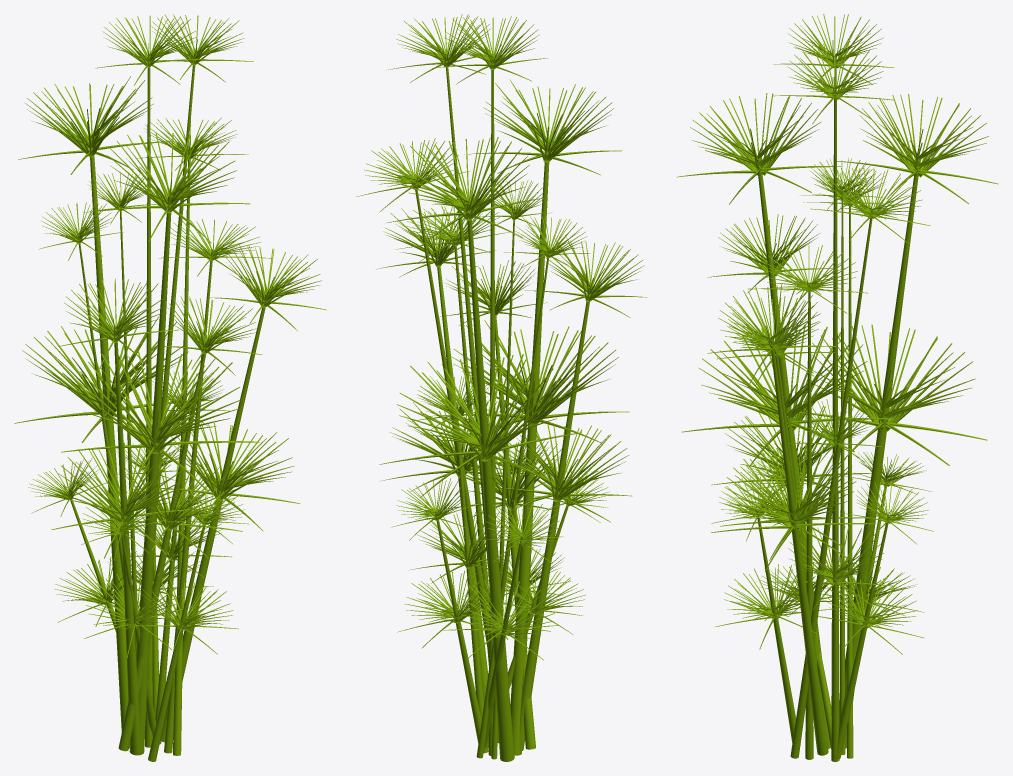
The model's file is papyrus_plant.glb.
The picture shows the model from 3 angles, left to right: view 1: azimuth 30°, elevation 25°; view 2: azimuth 150°, elevation 25°; view 3: azimuth 270°, elevation 25°; orthographic projection.
Visible parts, largest first — view 1: group_5.003, group_5.004, group_5.008, group_5.005, group_50.005, group_5.009, group_50.001, group_50.004, group_50.002, group_5.006, group_50, group_5.001 (+4 smaller); view 2: group_5.004, group_5.003, group_5.008, group_50.001, group_50.003, group_50.005, group_50.002, group_5.009, group_50.004, group_50, group_5.005, group_5.001 (+3 smaller); view 3: group_5.004, group_5.005, group_50.005, group_5.003, group_50.003, group_50.004, group_50.002, group_50, group_5.001, group_5.007, group_5.006, group_5.009 (+2 smaller).
Part boxes in pixels (<box>): group_5.003: <box>129,195,171,755</box>; group_5.004: <box>89,139,129,748</box>; group_5.008: <box>114,330,140,752</box>; group_5.005: <box>160,294,267,742</box>; group_50.005: <box>173,149,190,755</box>; group_5.009: <box>118,341,207,751</box>; group_50.001: <box>145,56,152,747</box>; group_50.004: <box>164,252,212,753</box>; group_50.002: <box>154,53,196,554</box>; group_5.006: <box>148,517,206,761</box>; group_50: <box>120,203,137,655</box>; group_5.001: <box>155,410,185,744</box>; group_5.004: <box>466,202,514,761</box>; group_5.003: <box>510,143,549,755</box>; group_5.008: <box>519,287,591,751</box>; group_50.001: <box>488,58,495,755</box>; group_50.003: <box>476,249,549,758</box>; group_50.005: <box>413,179,487,646</box>; group_50.002: <box>445,55,489,581</box>; group_5.009: <box>495,305,535,749</box>; group_50.004: <box>453,237,498,743</box>; group_50: <box>491,211,515,759</box>; group_5.005: <box>436,252,488,703</box>; group_5.001: <box>456,420,488,753</box>; group_5.004: <box>839,160,920,748</box>; group_5.005: <box>770,340,828,755</box>; group_50.005: <box>790,210,873,758</box>; group_5.003: <box>756,158,830,748</box>; group_50.003: <box>847,197,853,758</box>; group_50.004: <box>805,284,813,759</box>; group_50.002: <box>831,89,839,701</box>; group_50: <box>839,190,845,754</box>; group_5.001: <box>831,438,839,761</box>; group_5.007: <box>836,516,889,759</box>; group_5.006: <box>756,510,795,742</box>; group_5.009: <box>775,351,806,584</box>.
Bounding box in the file's own units: 6.7 × 18.54 × 7.4.
